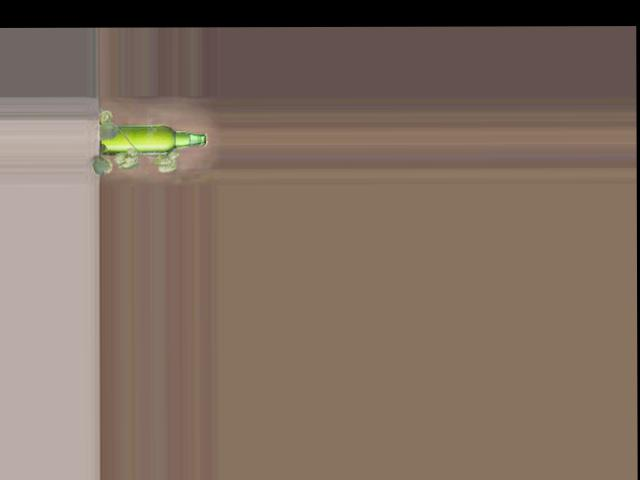beer: (97, 124, 208, 153)
